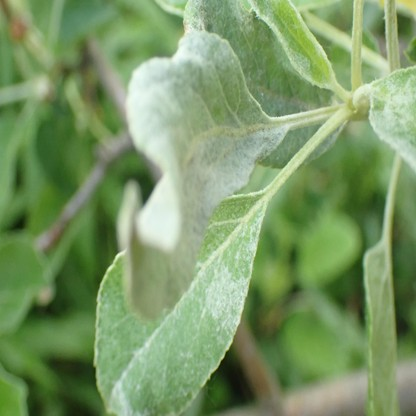powder: (123, 32, 286, 317), (184, 0, 310, 111), (362, 240, 399, 416), (370, 65, 416, 170), (205, 267, 250, 333), (236, 214, 265, 262), (314, 119, 350, 157), (269, 126, 309, 156), (113, 384, 135, 416)
